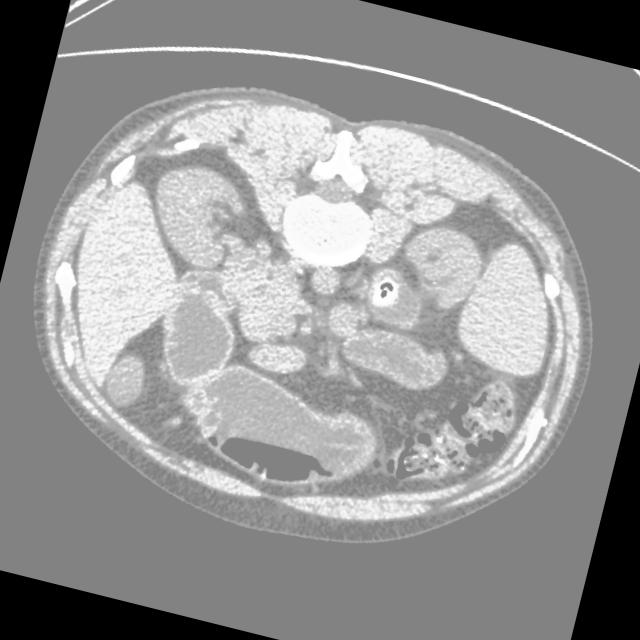STONE: (166, 288, 602, 578)
